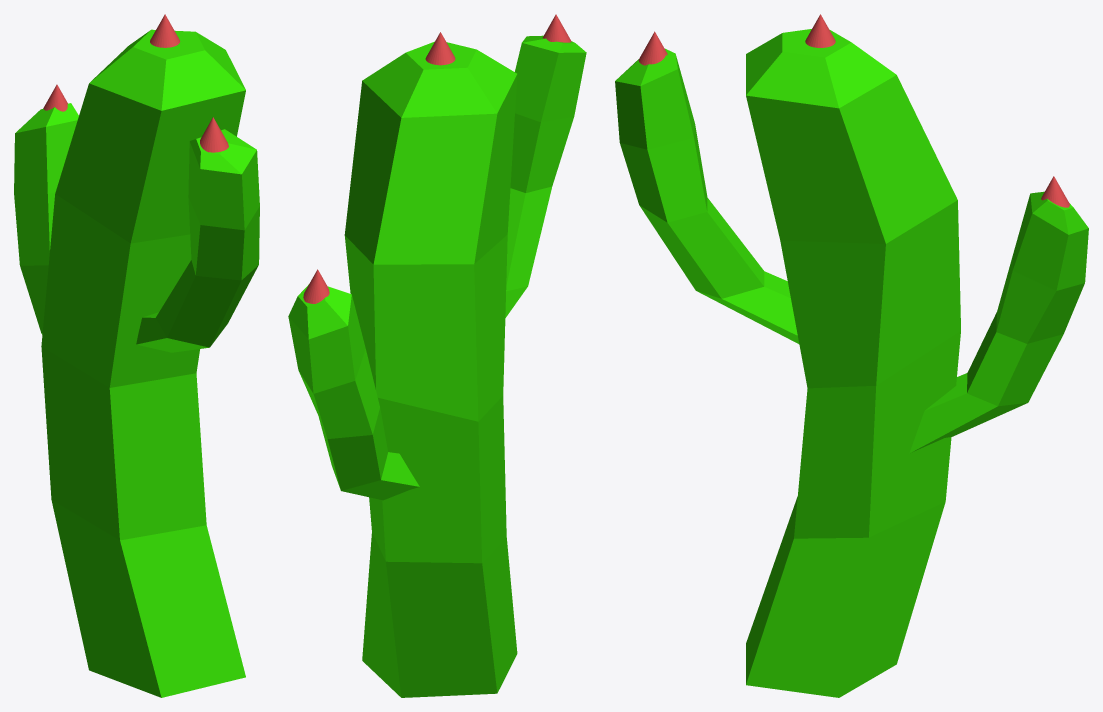
Rendered from Cactus.fbx.
3 views of the same model, side by side, from view 1: azimuth 30°, elevation 25°; view 2: azimuth 150°, elevation 25°; view 3: azimuth 270°, elevation 25° (orthographic).
Parts seen in each view (by area): view 1: Cactus, Cactus.003, Cactus.001; view 2: Cactus, Cactus.001, Cactus.002; view 3: Cactus.
Part boxes in pixels (left/top/right/bottom): Cactus: left=14, top=29, right=259, bottom=697; Cactus.003: left=200, top=117, right=228, bottom=152; Cactus.001: left=150, top=14, right=180, bottom=47; Cactus: left=288, top=35, right=586, bottom=697; Cactus.001: left=425, top=32, right=455, bottom=65; Cactus.002: left=303, top=269, right=329, bottom=303; Cactus: left=615, top=29, right=1088, bottom=697.
Bounding box in the file's own units: 210 × 859 × 568.
